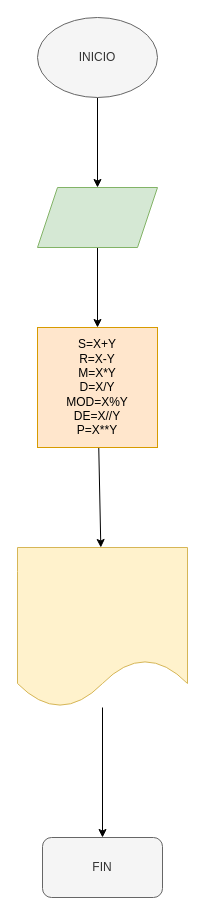
Image size: 205x915. Some labels were removed from this diagram. The shapes that lost their labels are listed below. From the top down, each one's box as (x1, y1, x2, y2) in pixels, then its label:
(36, 186, 158, 248): X, Y
(16, 546, 188, 708): SUMA=S RESTA=R MULTIPLICACION=M DIVISION=D PORCENTAJE=MOD DERIBADA=DE POTENCIA=P
